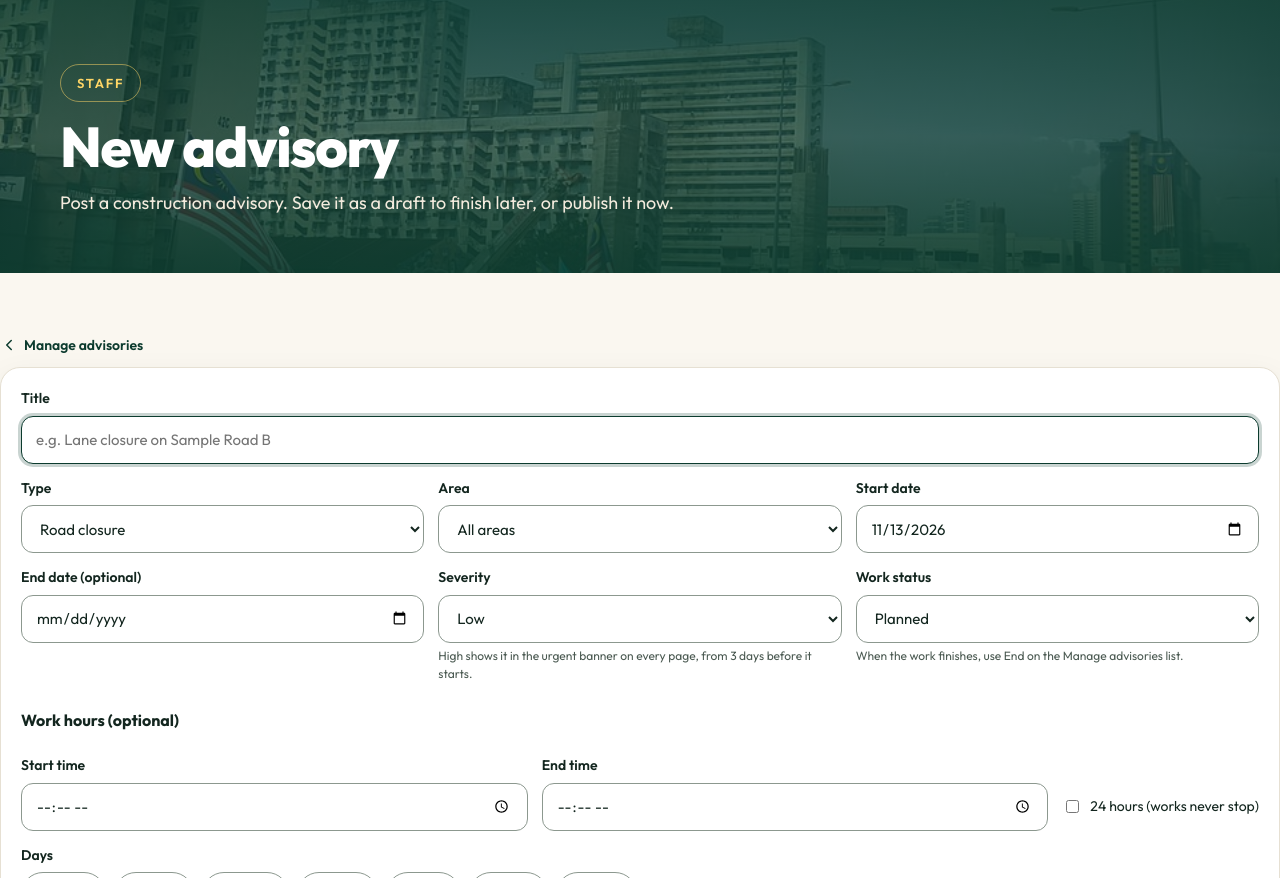
it: Advisory form: checks before saving › checks the title and start date before saving
Clear the date field labelled "Start date" at {"x": 1057, "y": 529}, box [856,505,1259,553]
(page scrolled)
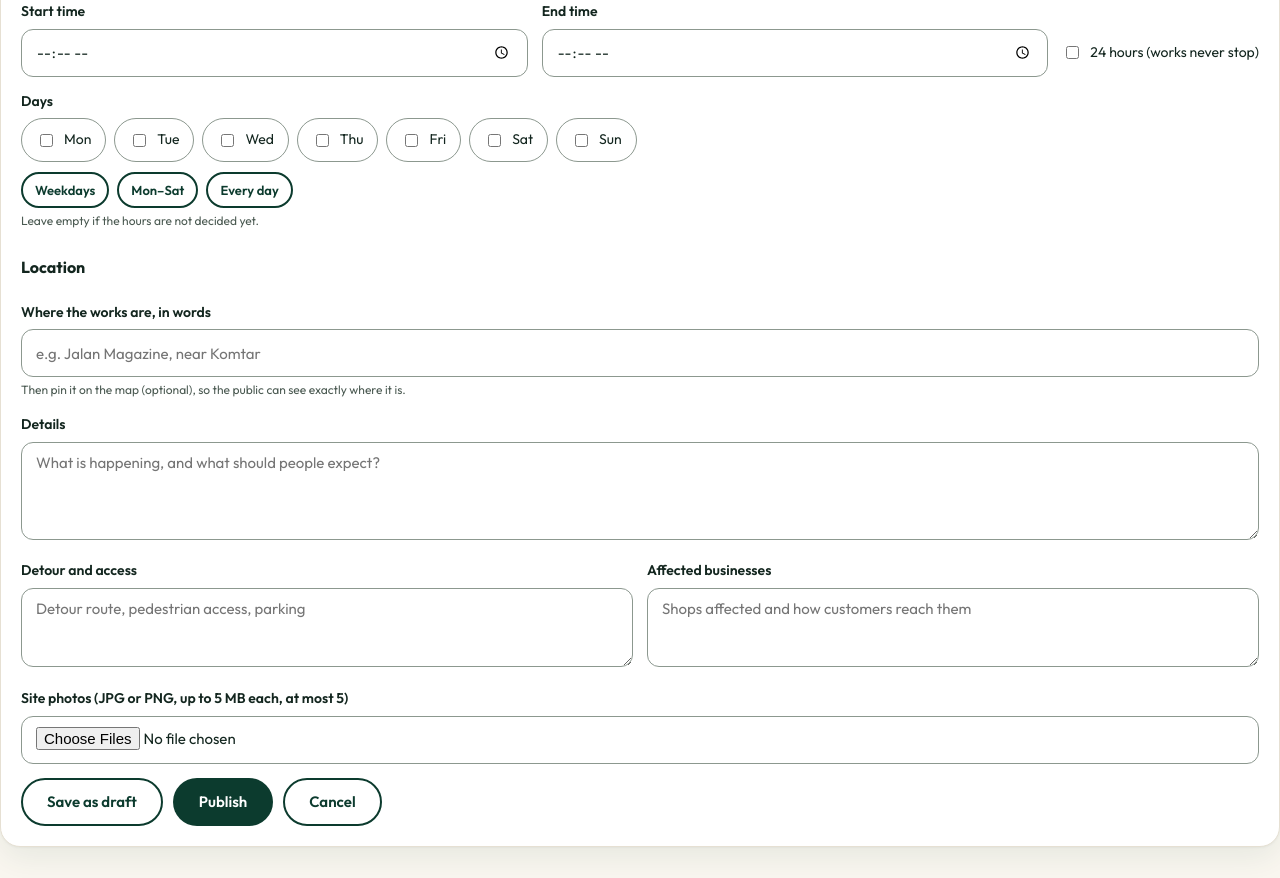
Click the button "Save as draft".
click(92, 802)  # box [21,778,163,826]
(page scrolled)
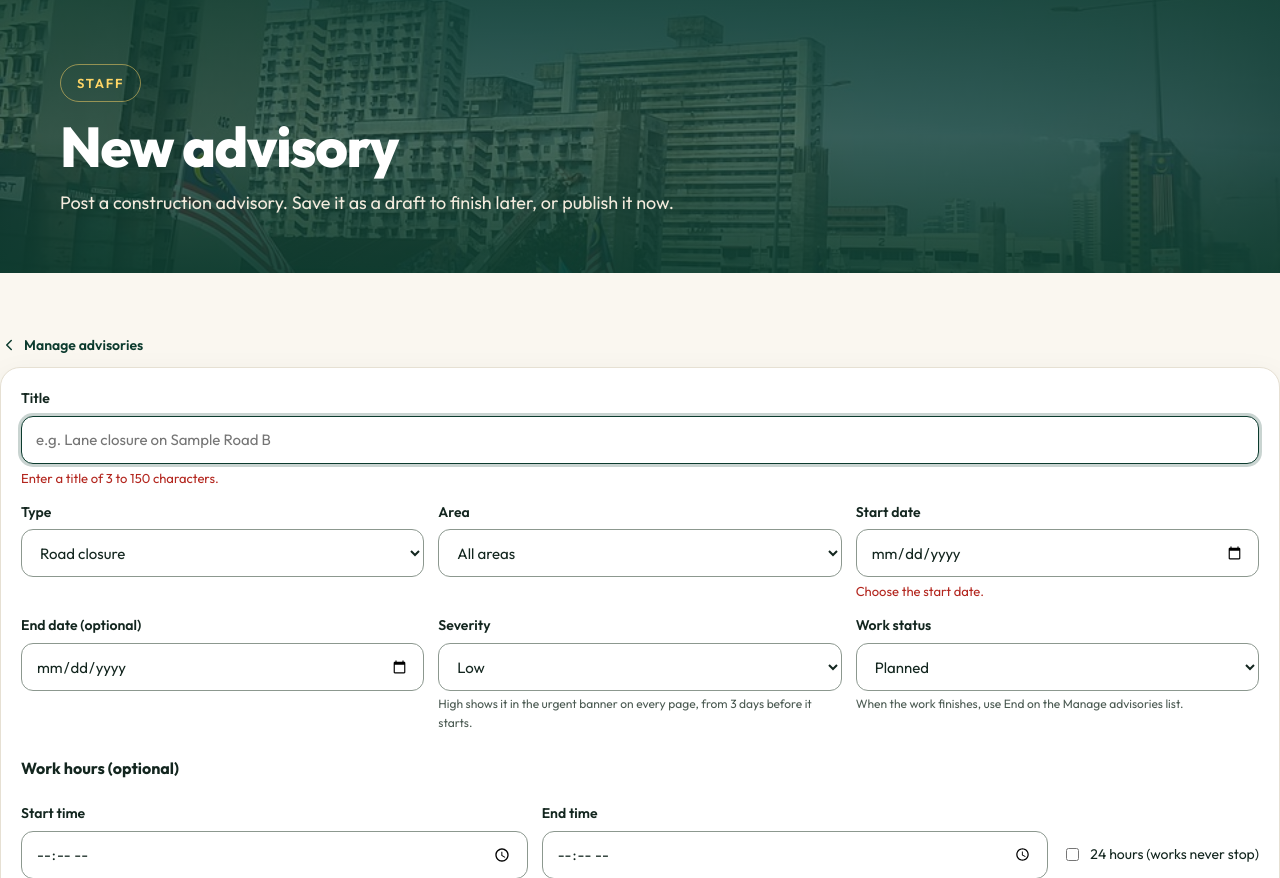
Check: the text "Enter a title of 3 to 150 characters." is shown, box [21,470,219,486]
Check: the text "Choose the start date." is shown, box [856,583,984,599]
